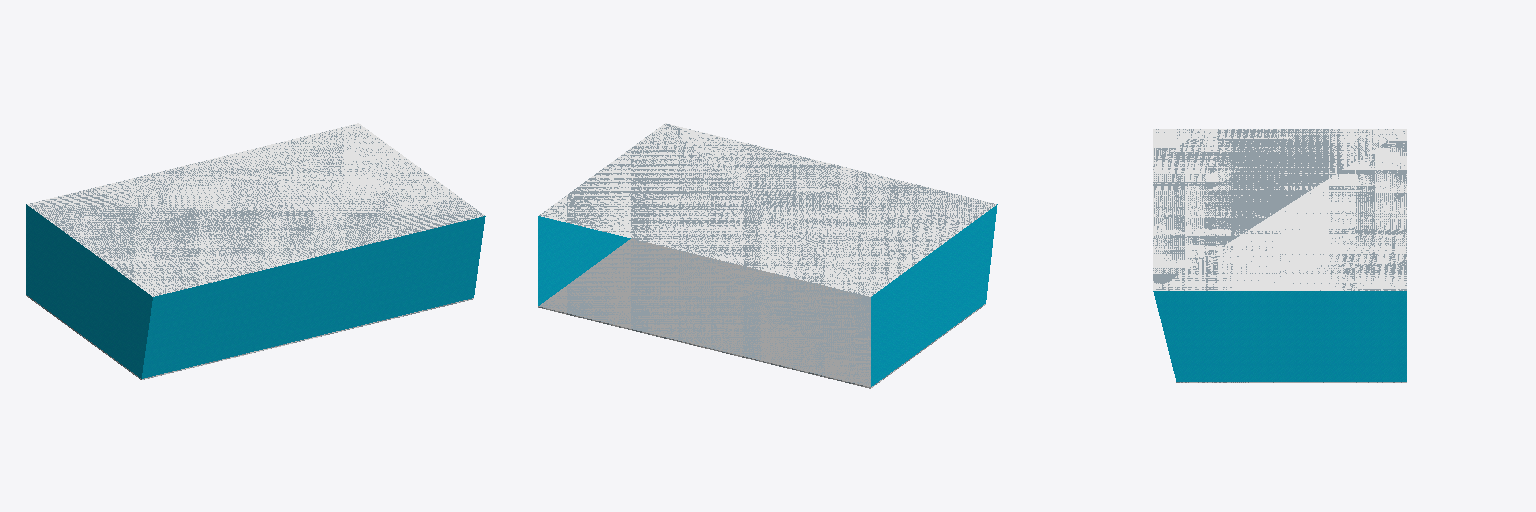
3 renders of one model, left to right at view 1: azimuth 30°, elevation 25°; view 2: azimuth 150°, elevation 25°; view 3: azimuth 270°, elevation 25°, orthographic.
Parts seen in each view (by area): view 1: Mesh3 Model, Mesh1 podlaha_hl_budova1 Model; view 2: Mesh3 Model, Mesh1 podlaha_hl_budova1 Model; view 3: Mesh3 Model.
Part boxes in pixels (left/top/right/bottom): Mesh3 Model: left=26, top=123, right=485, bottom=378; Mesh1 podlaha_hl_budova1 Model: left=26, top=295, right=473, bottom=379; Mesh3 Model: left=538, top=123, right=997, bottom=386; Mesh1 podlaha_hl_budova1 Model: left=538, top=239, right=985, bottom=388; Mesh3 Model: left=1153, top=129, right=1406, bottom=381.
Size of the model in its own units: 25 by 6.6 by 16.5.
Materials: 4 (1 with a texture image).